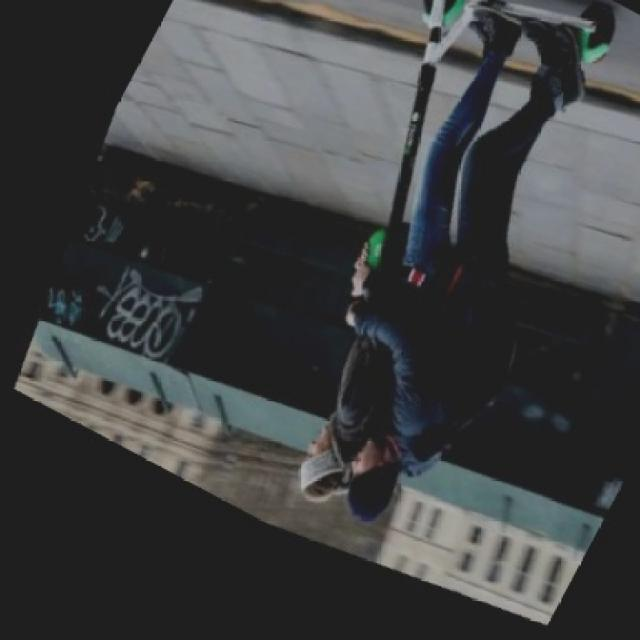bare_head: (338, 429, 401, 524), (290, 423, 348, 494)
human: (346, 19, 578, 516), (295, 15, 514, 501)
kickboard: (403, 0, 627, 66)
